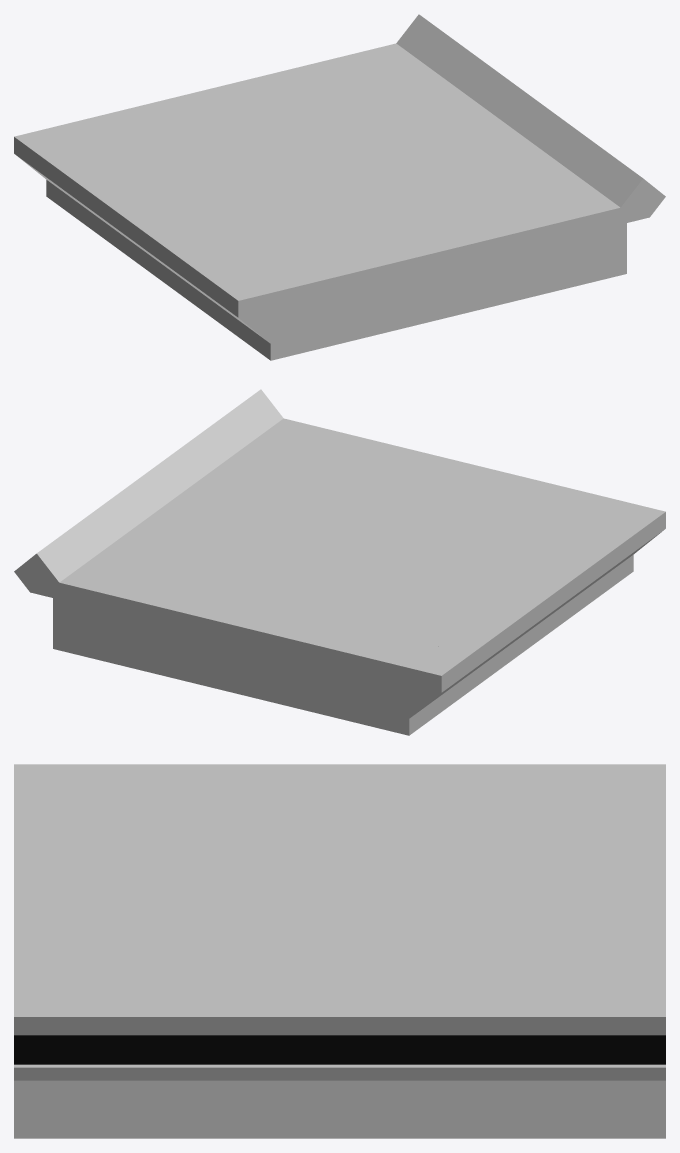
The model's file is Plateform_Line_04.FBX.
3 views of the same model, one above another, from view 1: azimuth 30°, elevation 25°; view 2: azimuth 150°, elevation 25°; view 3: azimuth 270°, elevation 25° (orthographic). The views are drawn at different scales.
Visible parts, largest first — view 1: Floor, Plateform_Line_04; view 2: Floor, Plateform_Line_04; view 3: Floor, Plateform_Line_04, Bottom.
Boxes of the visible parts, x1,y1,x2,y2 form: Floor: (46,43,619,292); Plateform_Line_04: (14,14,665,360); Floor: (60,418,633,667); Plateform_Line_04: (14,389,665,735); Floor: (14,787,665,1016); Plateform_Line_04: (14,764,665,1138); Bottom: (14,1035,665,1064).
Size of the model in its own units: 6.6 by 1.35 by 6.
